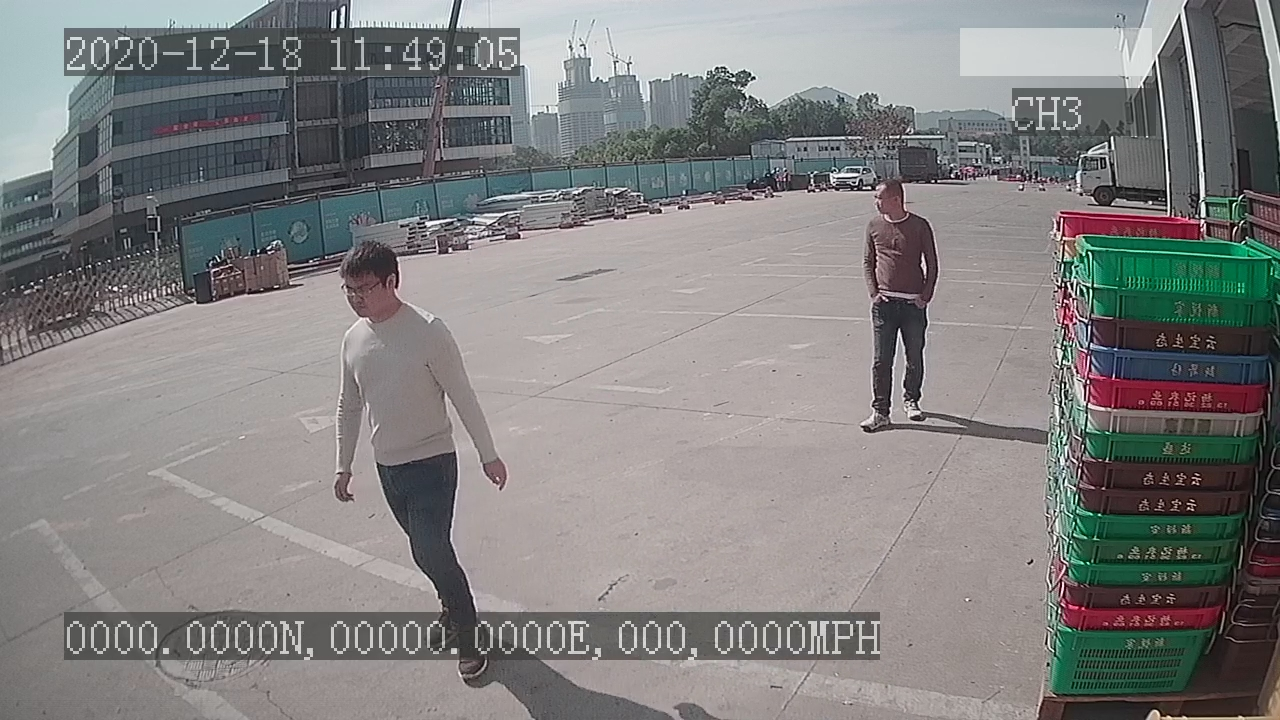person: (854, 179, 943, 436)
